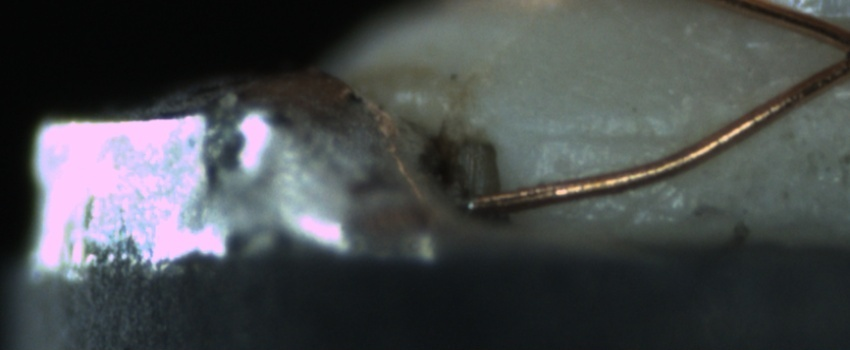DL: (533, 106, 678, 167)
